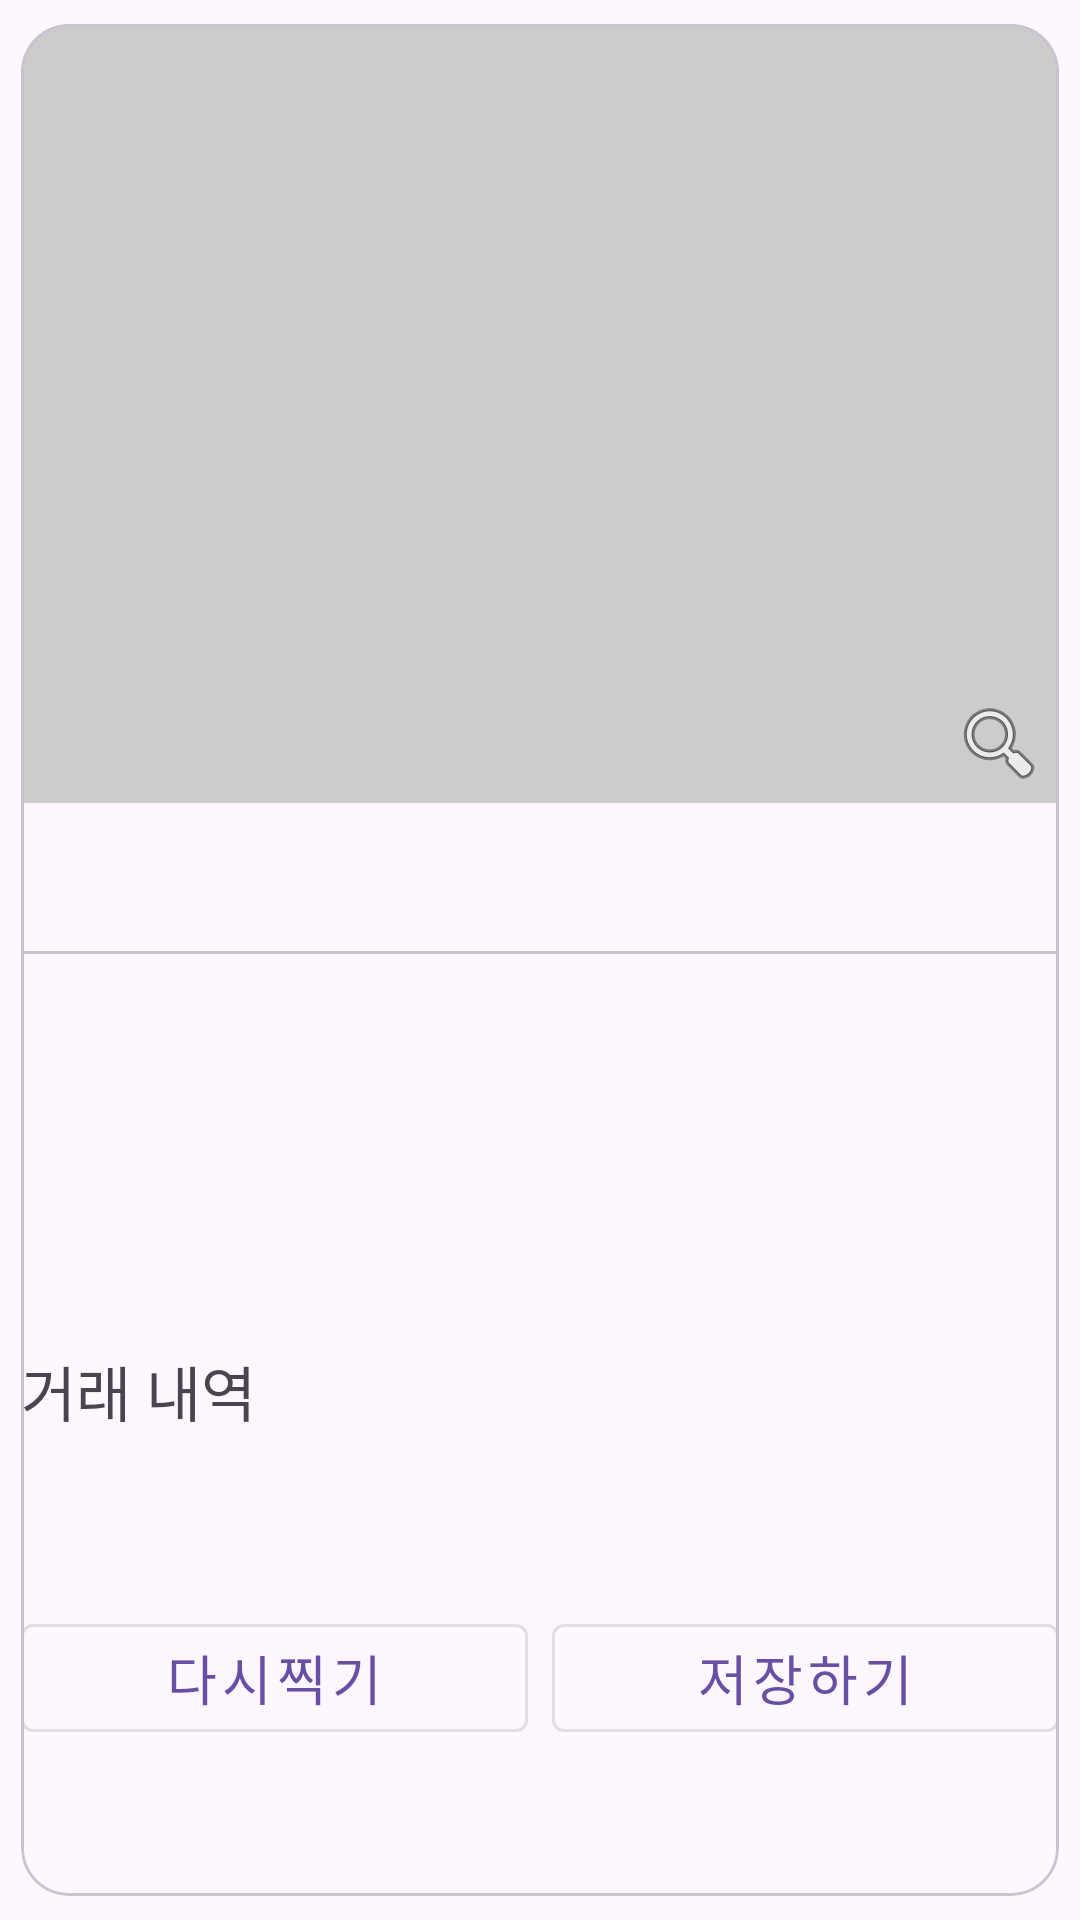

Point at icon controls on the screen. Image size 1080*1920, points as (x=x, y=y).
search: (x=999, y=743)
